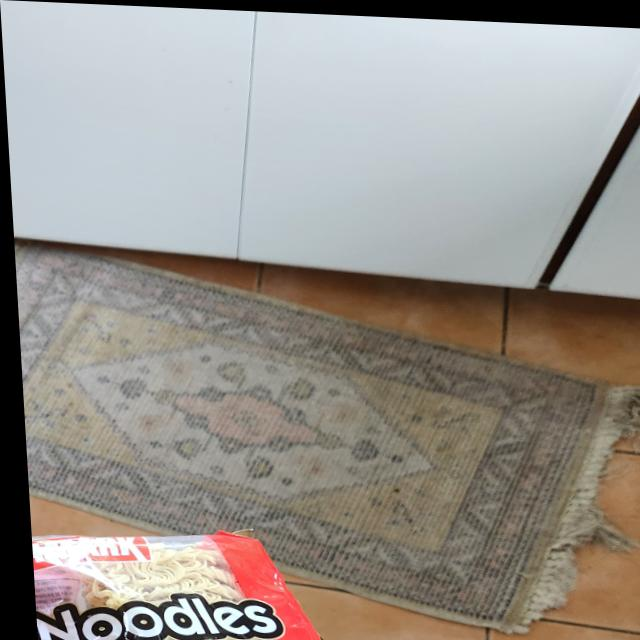noodles: (24, 523, 379, 640)
